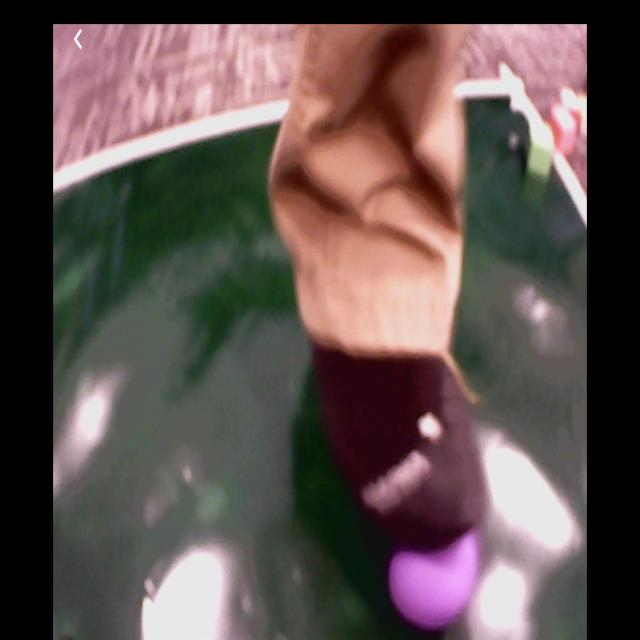ball: (389, 516, 480, 630)
